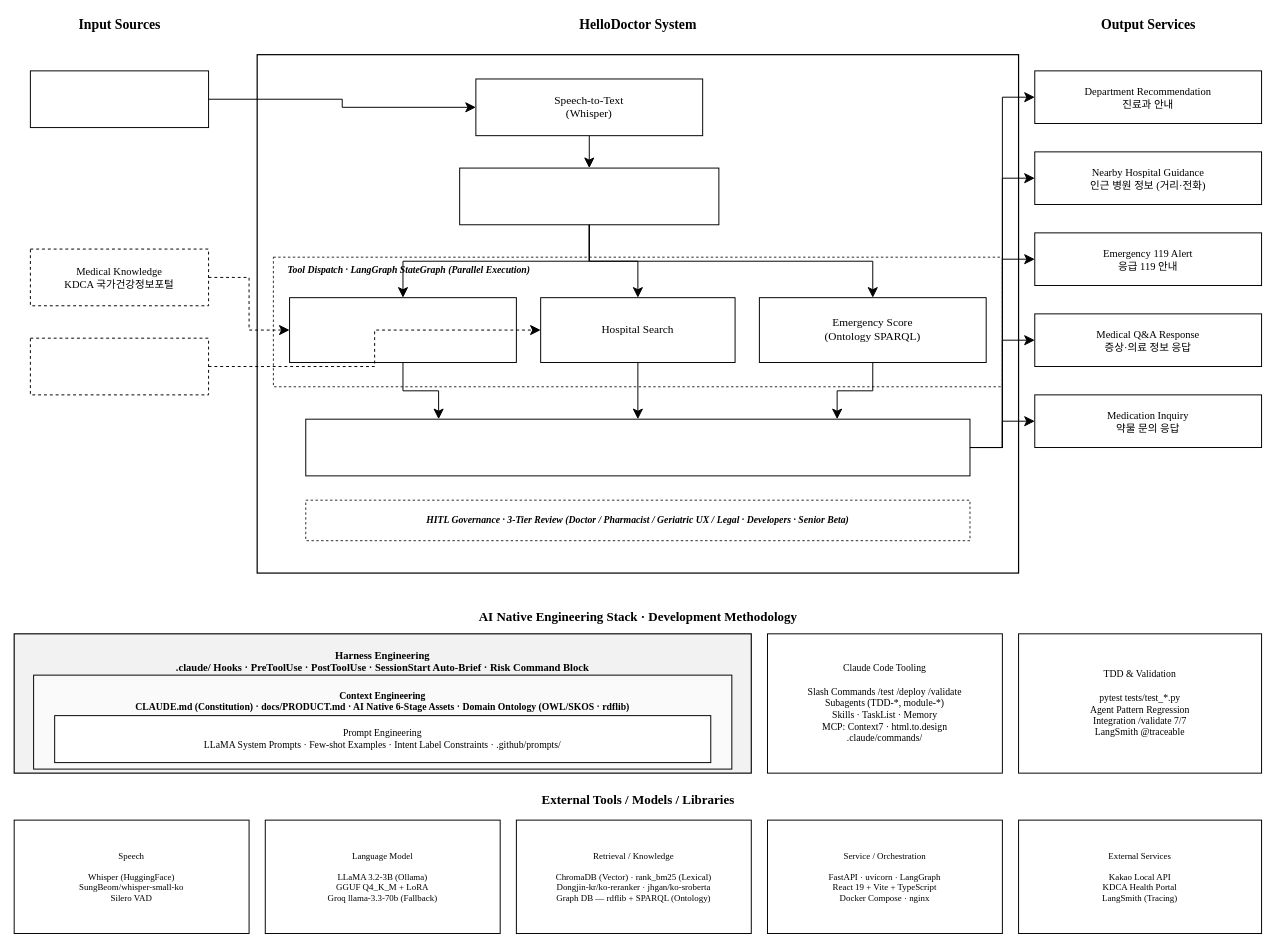
This 1277x948 diagram has some shape labels left out. The centre of each missing label's shape, as x and y in pixels:
Answer Generator (LLaMA) + Evaluator (Quality Check): [637,447]
External API Kakao Local API: [119,366]
Hybrid RAG: [402,330]
Intent Classifier (LLaMA + Emergency Rule): [589,196]
Senior Voice Input (자연어 발화): [119,99]
